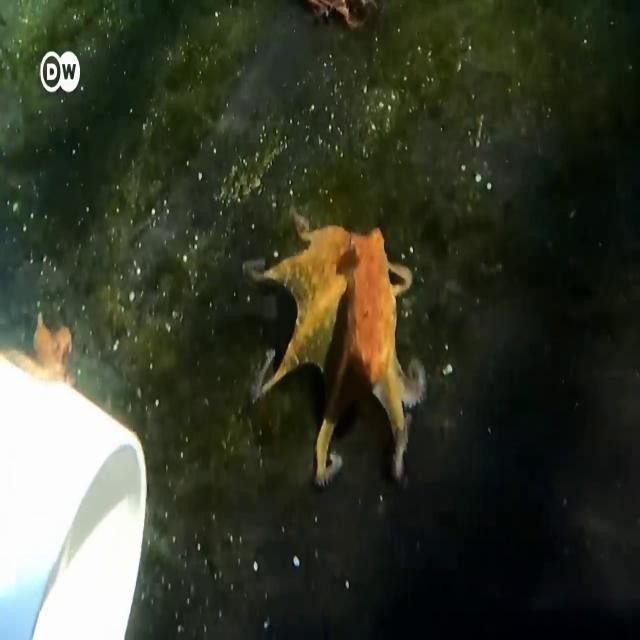octopus: (242, 204, 430, 492)
